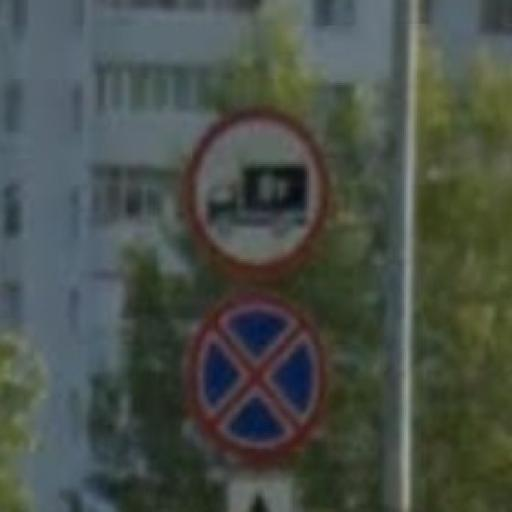traffic_sign: (180, 104, 334, 290), (186, 288, 332, 468)
